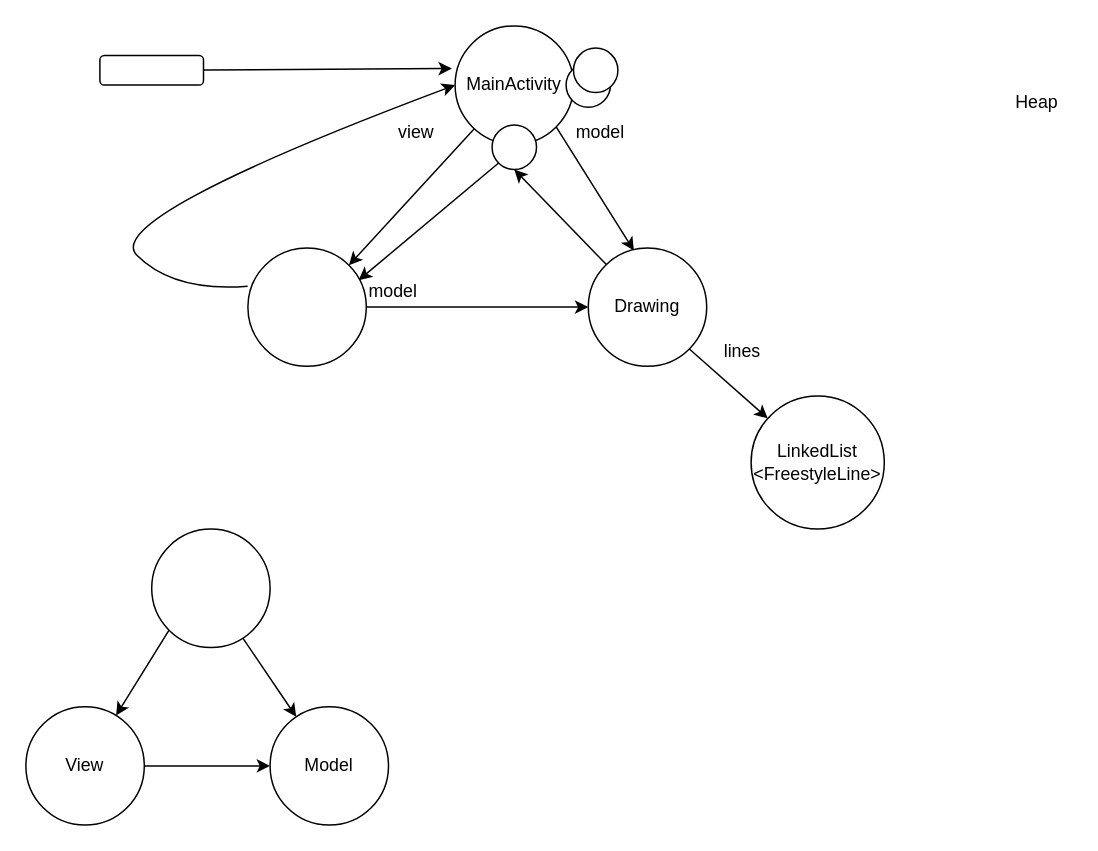
This 1098x851 diagram has some shape labels left out. Each missing label, with the centre of its shape:
"Controller" belongs at (210,588).
"Drawing View" belongs at (306,306).
